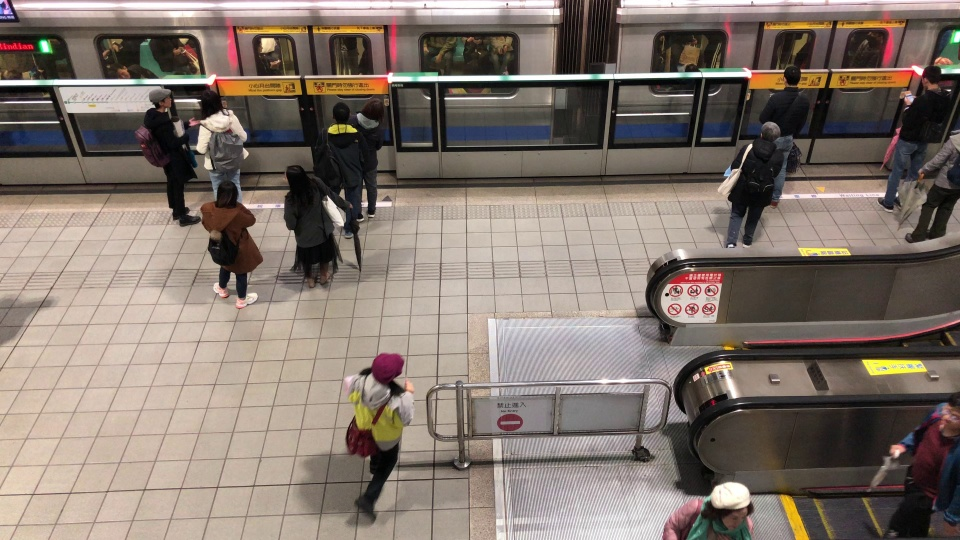person_head: (356, 348, 410, 398), (707, 473, 753, 526), (141, 85, 179, 120), (274, 163, 310, 197), (749, 114, 781, 148), (909, 61, 941, 95), (774, 64, 804, 97), (356, 94, 388, 122), (324, 92, 353, 122), (207, 179, 238, 207), (200, 94, 225, 119), (937, 401, 960, 428), (946, 113, 960, 143)
person_vbox: (321, 345, 421, 525), (865, 398, 955, 540), (707, 114, 794, 252), (878, 57, 950, 222), (115, 85, 201, 223), (878, 113, 960, 248), (185, 182, 268, 313), (303, 91, 368, 236), (281, 160, 347, 289), (175, 91, 253, 200), (649, 480, 763, 540), (763, 63, 815, 173), (353, 94, 399, 216)
